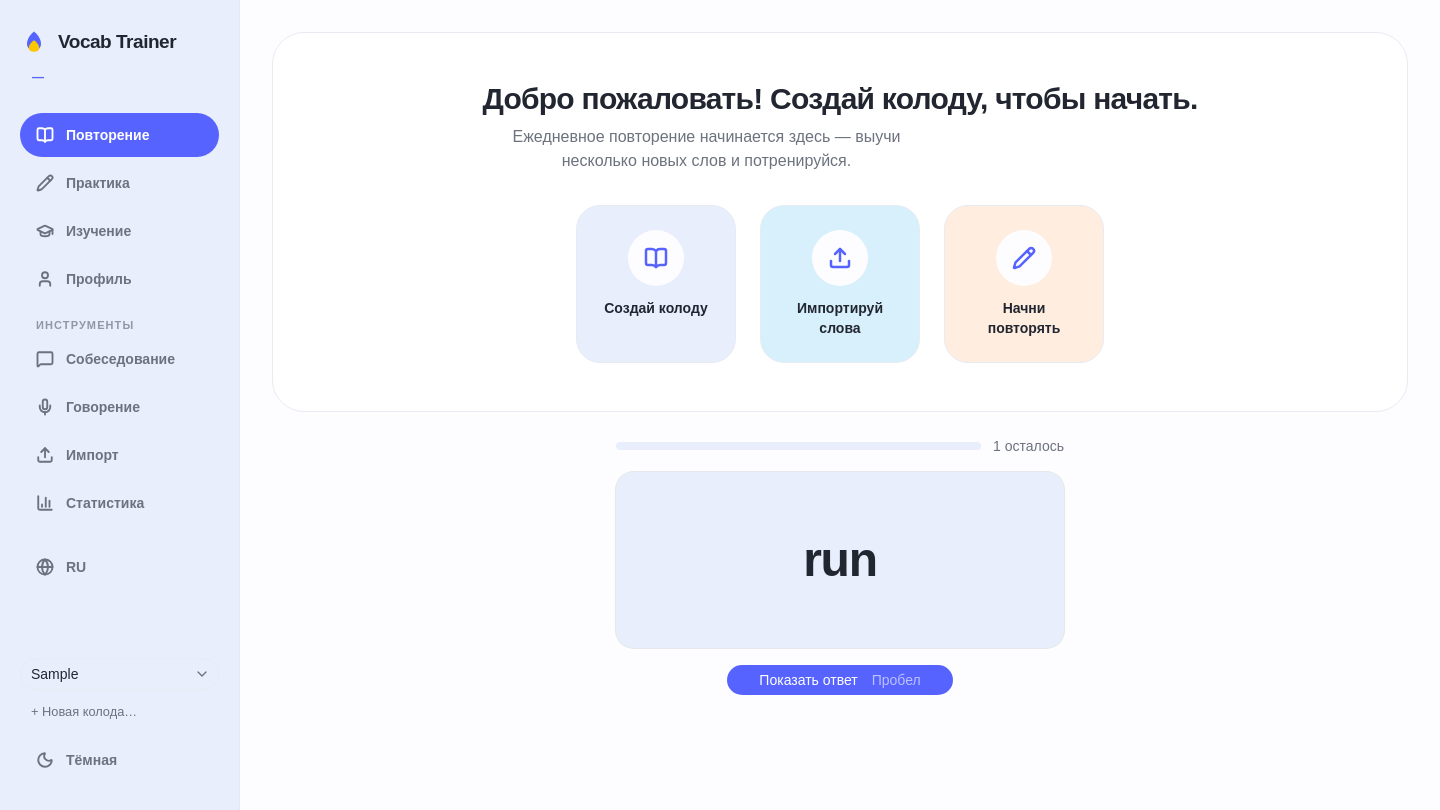
Scenario: App › renders the review page by default and navigates to import
Check: the heading "Vocab Trainer" is shown, box left=58, top=28, right=176, bottom=56
Click the link "Импорт" at (77, 455), box left=36, top=446, right=119, bottom=464
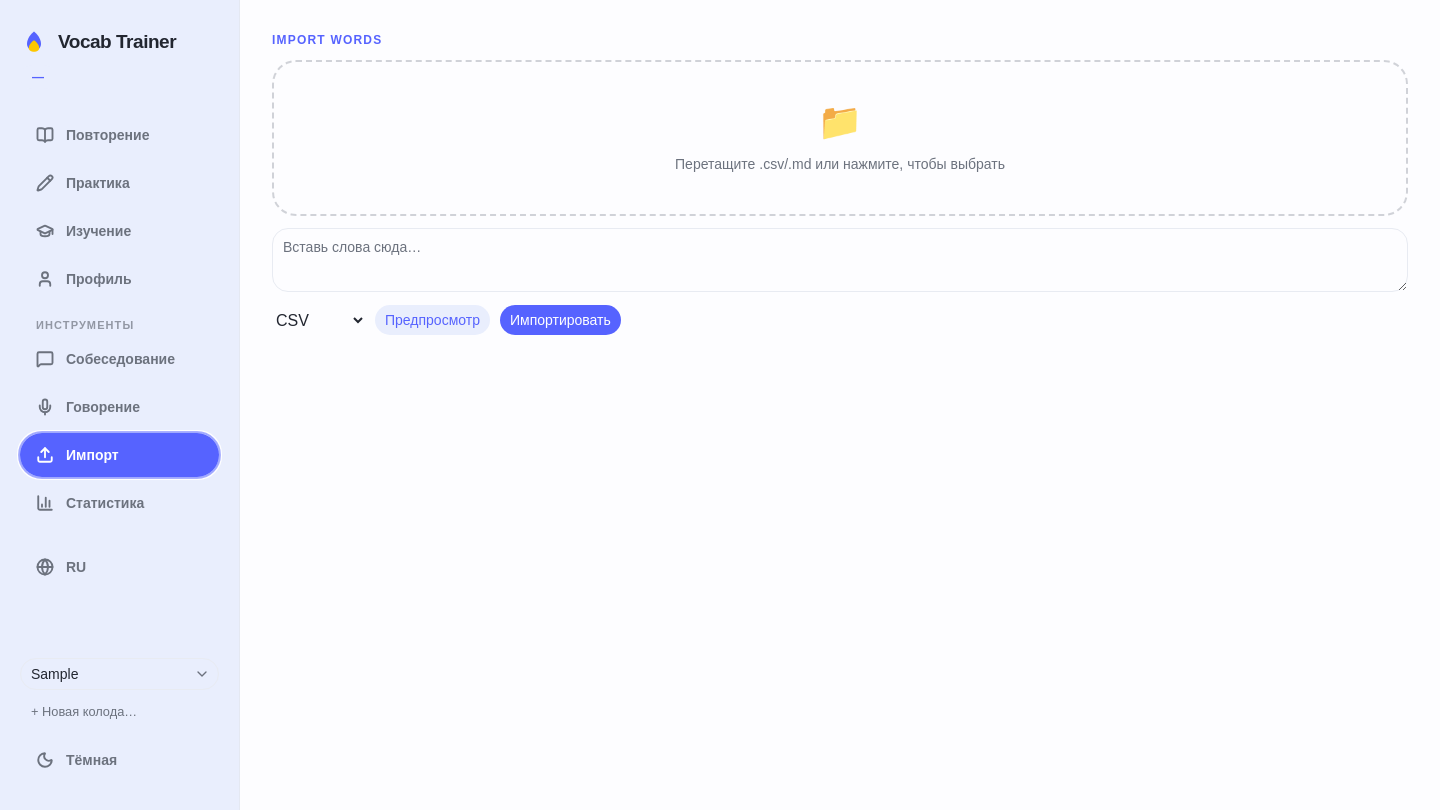
Check: the heading "Import words" is shown, box left=272, top=33, right=382, bottom=47
